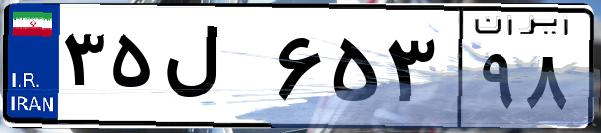3: (385, 28, 445, 110), (57, 26, 110, 100)
5: (330, 28, 385, 110), (110, 28, 158, 98)
6: (270, 28, 330, 110)
8: (525, 38, 570, 115)
9: (475, 38, 525, 113)
ل: (158, 20, 270, 120)
